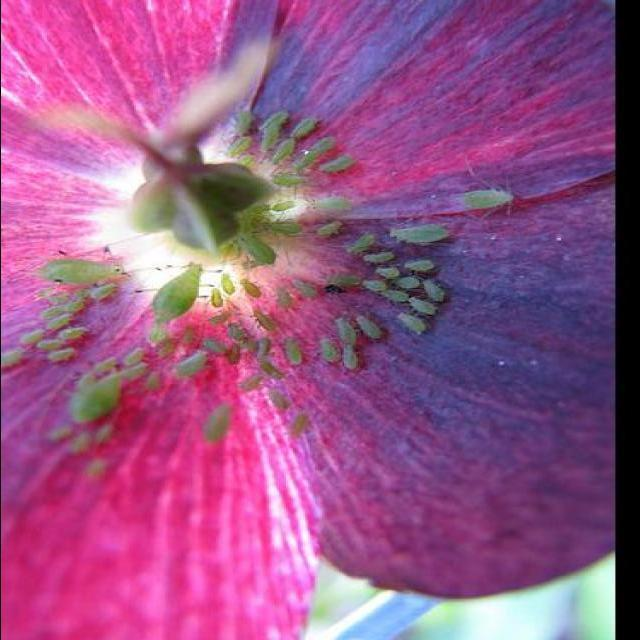aphid: (0, 97, 536, 479), (136, 252, 216, 321)
